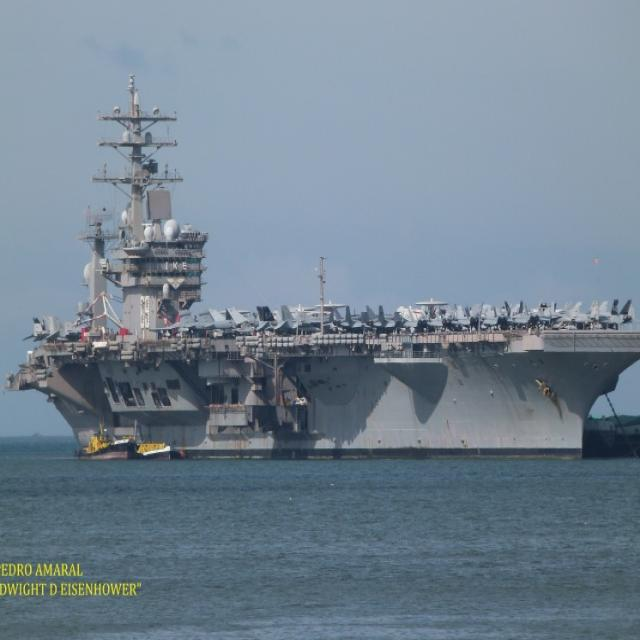Portanaves: (1, 72, 640, 464)
